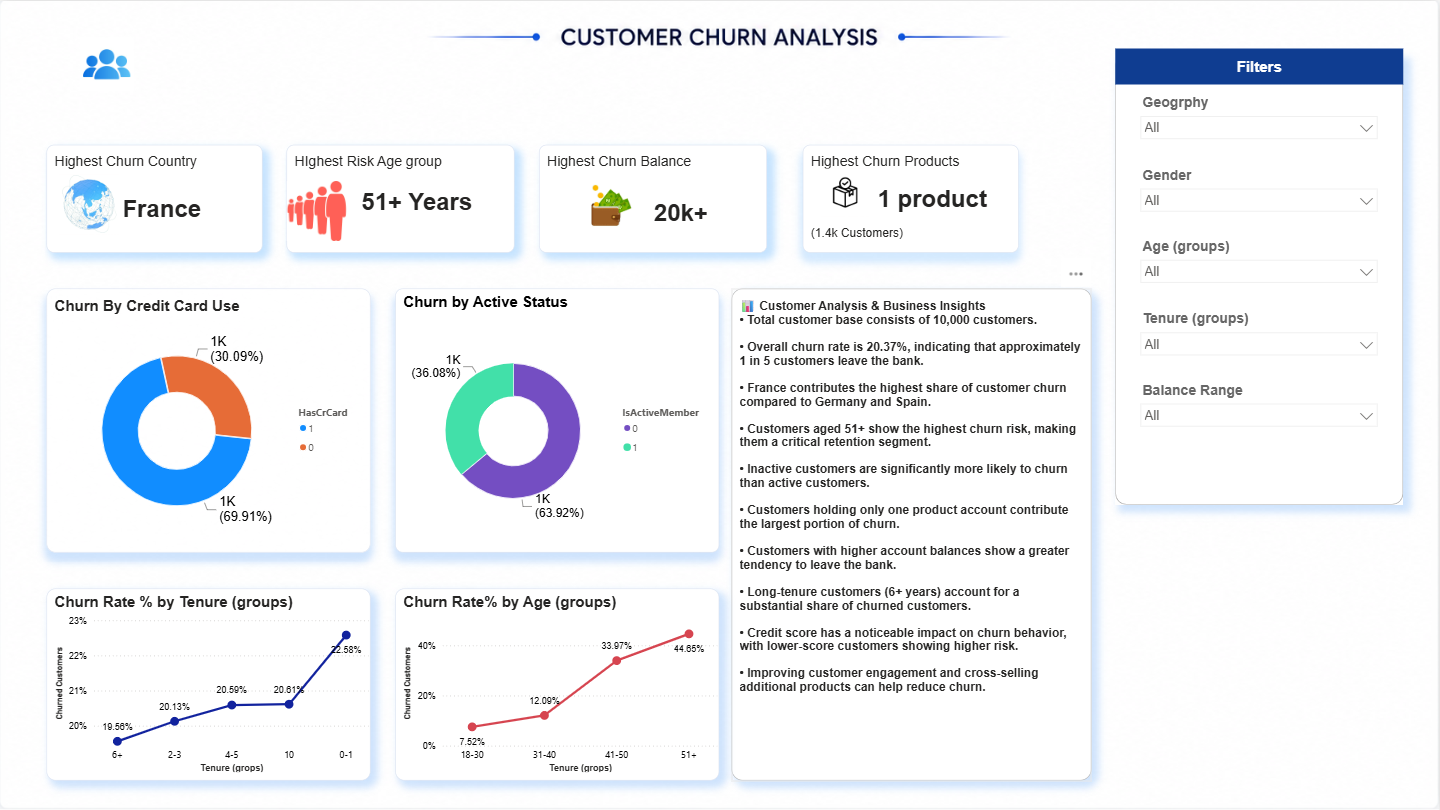

The dashboard page shown, as its layout file describes it:
{"tool":"powerbi","page":{"name":"Page 5","canvas":[1920,1080],"ordinal":1},"visuals":[{"type":"textbox","box":[64,192,288,144],"z":0},{"type":"textbox","title":"HIghest Risk Age group","box":[384,192,304,144],"z":1000},{"type":"textbox","title":"Highest Churn Balance","box":[720,192,304,144],"z":2000},{"type":"textbox","title":"Highest Churn Products","box":[1072,192,288,144],"z":3000},{"type":"donutChart","title":"Churn By Credit Card Use","fields":{"Category":["bank_churn xlsx.HasCrCard"],"Y":["bank_churn xlsx.Churned Customers"]},"box":[64,384,432,352],"z":4000},{"type":"donutChart","title":"Churn by Active Status","fields":{"Category":["bank_churn xlsx.IsActiveMember"],"Y":["bank_churn xlsx.Churned Customers"]},"box":[528,384,432,352],"z":5000},{"type":"shape","box":[1488,72,384,600],"z":6000},{"type":"shape","box":[1488,64,384,48],"z":7000},{"type":"slicer","fields":{"Values":["bank_churn xlsx.Geogrphy"]},"box":[1512,120,336,96],"z":8000},{"type":"slicer","fields":{"Values":["bank_churn xlsx.Gender"]},"box":[1512,216,336,96],"z":9000},{"type":"slicer","fields":{"Values":["bank_churn xlsx.Age (groups)"]},"box":[1512,312,336,96],"z":10000},{"type":"slicer","fields":{"Values":["bank_churn xlsx.Tenure (groups)"]},"box":[1512,408,336,96],"z":11000},{"type":"slicer","fields":{"Values":["bank_churn xlsx.Balance Range"]},"box":[1512,504,336,72],"z":12000},{"type":"textbox","box":[976,384,480,656],"z":13000},{"type":"image","box":[72,48,144,72],"z":14000},{"type":"image","box":[352,240,144,80],"z":15000},{"type":"image","box":[1088,224,80,64],"z":16000},{"type":"image","box":[752,240,128,64],"z":17000},{"type":"image","box":[80,224,80,96],"z":18000},{"type":"lineChart","title":"Churn Rate % by Tenure (groups)","fields":{"Category":["bank_churn xlsx.Tenure (groups)"],"Y":["bank_churn xlsx.Churn Rate %"]},"box":[64,784,432,256],"z":18002},{"type":"lineChart","title":"Churn  Rate% by Age (groups)","fields":{"Y":["bank_churn xlsx.Churn Rate %"],"Category":["bank_churn xlsx.Age (groups)"]},"box":[528,784,432,256],"z":18003}]}

Visuals, with their boxes in screenshot pixels (x1, y1, x2, y2), scaled from the page's 1920x1080 canvas onto the 1440x810 screenshot:
textbox: {"left": 48, "top": 144, "right": 264, "bottom": 252}
"HIghest Risk Age group" textbox: {"left": 288, "top": 144, "right": 516, "bottom": 252}
"Highest Churn Balance" textbox: {"left": 540, "top": 144, "right": 768, "bottom": 252}
"Highest Churn Products" textbox: {"left": 804, "top": 144, "right": 1020, "bottom": 252}
"Churn By Credit Card Use" donutChart: {"left": 48, "top": 288, "right": 372, "bottom": 552}
"Churn by Active Status" donutChart: {"left": 396, "top": 288, "right": 720, "bottom": 552}
shape: {"left": 1116, "top": 54, "right": 1404, "bottom": 504}
shape: {"left": 1116, "top": 48, "right": 1404, "bottom": 84}
slicer - bank_churn xlsx.Geogrphy: {"left": 1134, "top": 90, "right": 1386, "bottom": 162}
slicer - bank_churn xlsx.Gender: {"left": 1134, "top": 162, "right": 1386, "bottom": 234}
slicer - bank_churn xlsx.Age (groups): {"left": 1134, "top": 234, "right": 1386, "bottom": 306}
slicer - bank_churn xlsx.Tenure (groups): {"left": 1134, "top": 306, "right": 1386, "bottom": 378}
slicer - bank_churn xlsx.Balance Range: {"left": 1134, "top": 378, "right": 1386, "bottom": 432}
textbox: {"left": 732, "top": 288, "right": 1092, "bottom": 780}
image: {"left": 54, "top": 36, "right": 162, "bottom": 90}
image: {"left": 264, "top": 180, "right": 372, "bottom": 240}
image: {"left": 816, "top": 168, "right": 876, "bottom": 216}
image: {"left": 564, "top": 180, "right": 660, "bottom": 228}
image: {"left": 60, "top": 168, "right": 120, "bottom": 240}
"Churn Rate % by Tenure (groups)" lineChart: {"left": 48, "top": 588, "right": 372, "bottom": 780}
"Churn  Rate% by Age (groups)" lineChart: {"left": 396, "top": 588, "right": 720, "bottom": 780}
